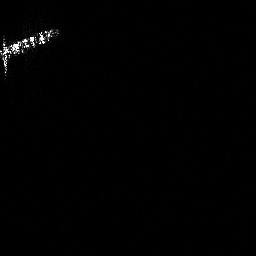ship: (1, 29, 57, 58)
